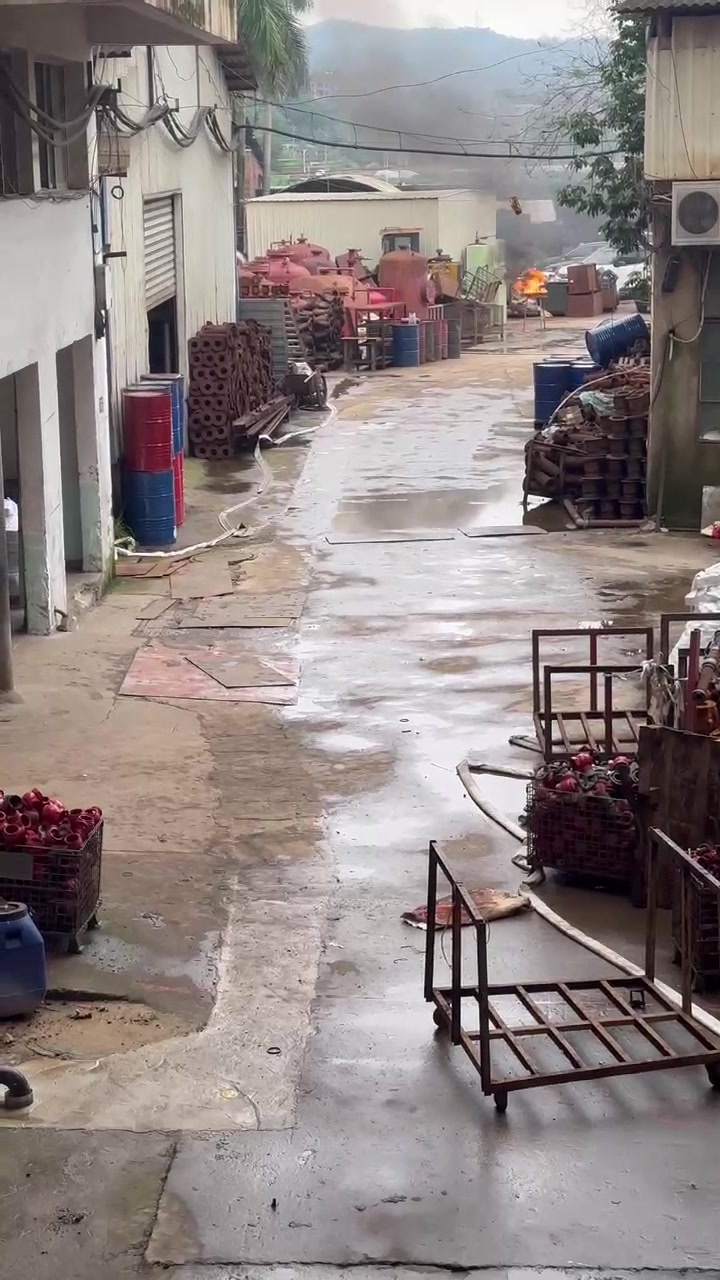fire: (513, 268, 547, 293)
